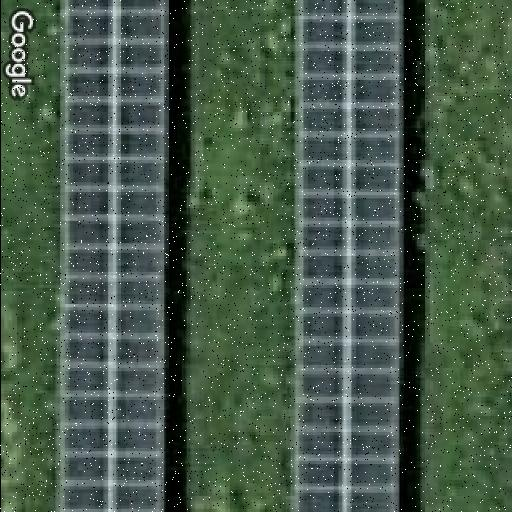solar-panel: (286, 0, 405, 512), (54, 0, 166, 512)
